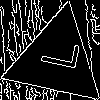L: (31, 34, 80, 72)
